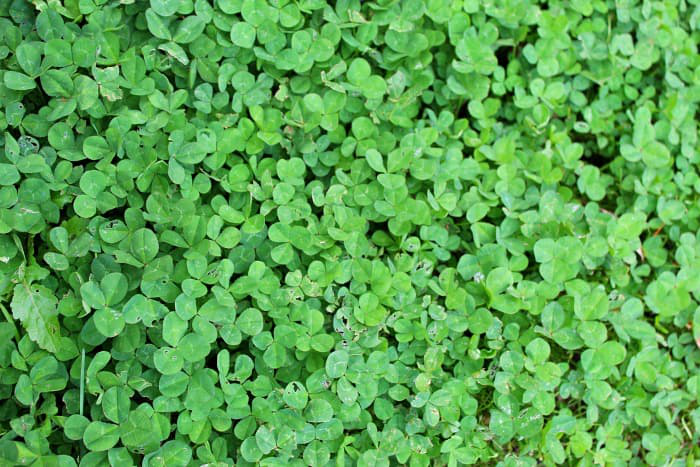clover: (4, 1, 693, 462)
